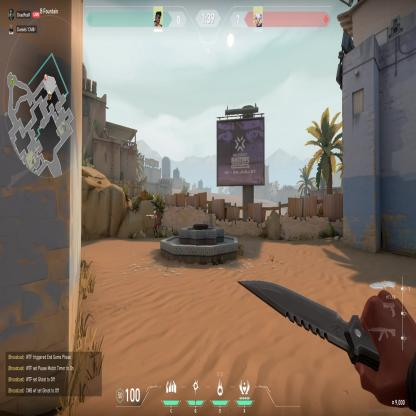enemy: (151, 210, 158, 239)
